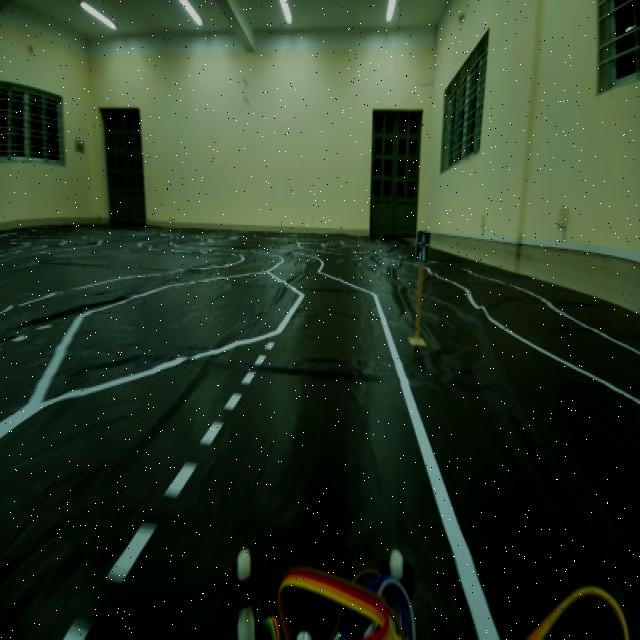highway_exit: (409, 215, 435, 271)
